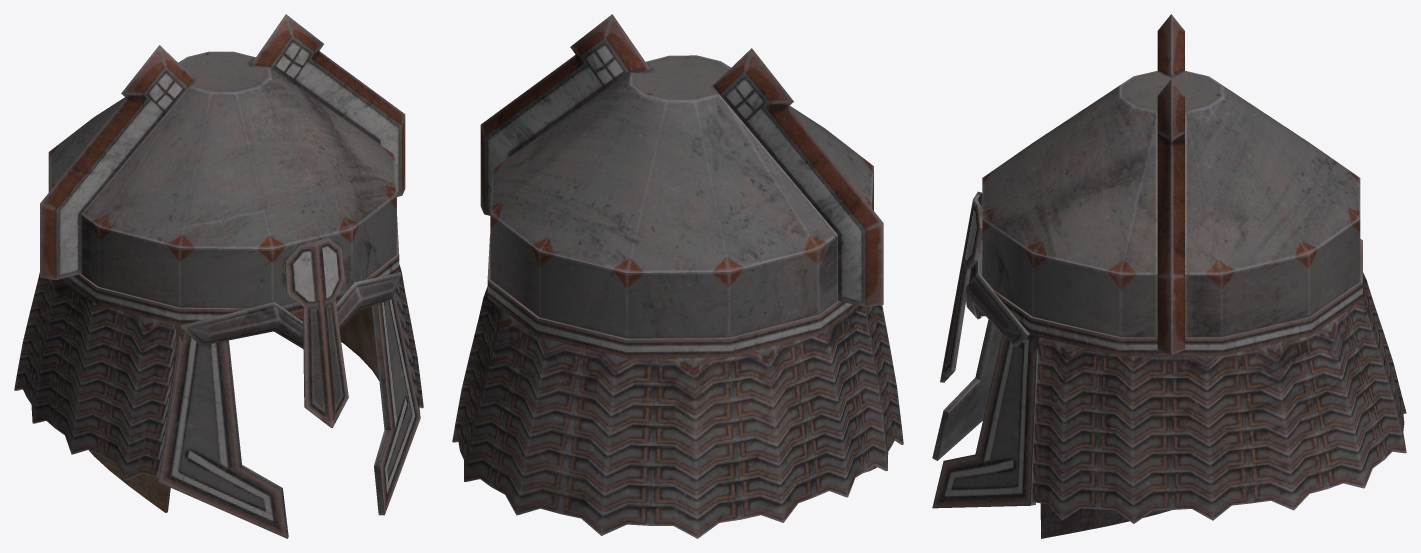
The model's file is sk_dwarf_iron_helmet_heavy_c1.fbx.
3 renders of one model, left to right at view 1: azimuth 30°, elevation 25°; view 2: azimuth 150°, elevation 25°; view 3: azimuth 270°, elevation 25°, orthographic. The views are drawn at different scales.
Visible parts, largest first — view 1: sk_dwarf_iron_helmet_heavy_c1.0, sk_dwarf_iron_helmet_heavy_c1.1; view 2: sk_dwarf_iron_helmet_heavy_c1.0; view 3: sk_dwarf_iron_helmet_heavy_c1.0, sk_dwarf_iron_helmet_heavy_c1.1.
Boxes of the visible parts, bbox=[...] form: sk_dwarf_iron_helmet_heavy_c1.0: bbox=[14, 14, 423, 538]; sk_dwarf_iron_helmet_heavy_c1.1: bbox=[89, 306, 379, 512]; sk_dwarf_iron_helmet_heavy_c1.0: bbox=[452, 14, 903, 538]; sk_dwarf_iron_helmet_heavy_c1.0: bbox=[932, 14, 1406, 523]; sk_dwarf_iron_helmet_heavy_c1.1: bbox=[1032, 335, 1171, 538].
Bounding box in the file's own units: 0.3211 × 0.3426 × 0.3488.
